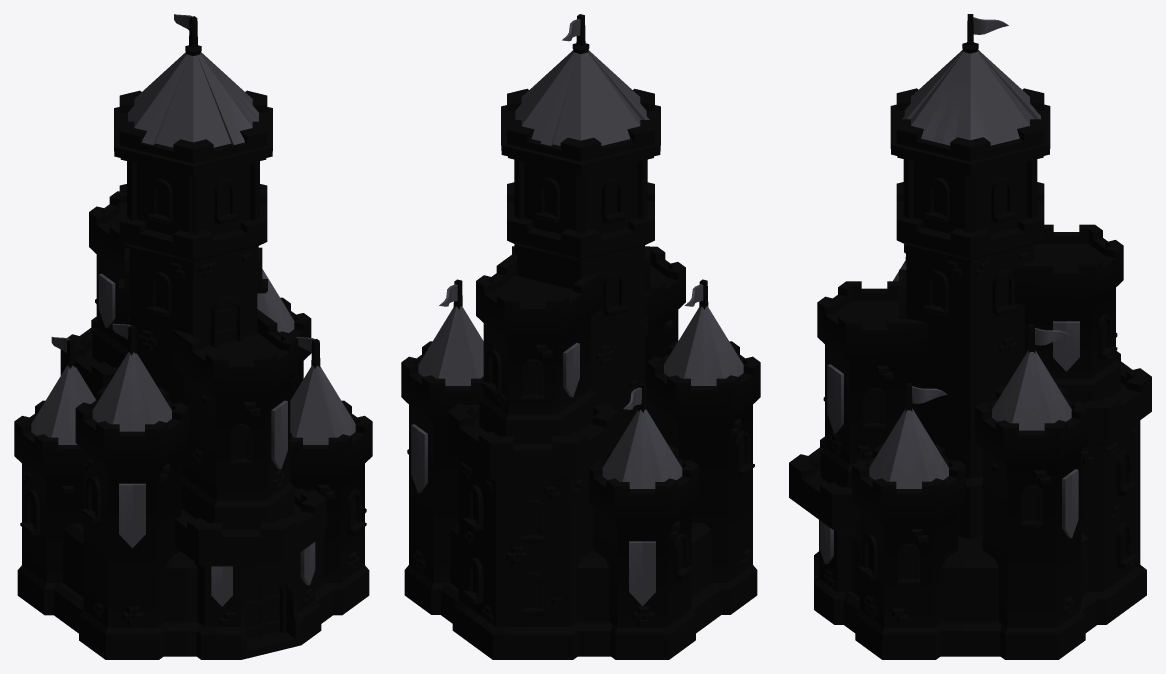
File: castle.glb
The picture shows the model from 3 angles, left to right: view 1: azimuth 30°, elevation 25°; view 2: azimuth 150°, elevation 25°; view 3: azimuth 270°, elevation 25°; orthographic projection.
Visible parts, largest first — view 1: building_castle_blue; view 2: building_castle_blue; view 3: building_castle_blue.
Boxes of the visible parts, <box> form: building_castle_blue: <box>14,14,372,659</box>; building_castle_blue: <box>401,14,760,659</box>; building_castle_blue: <box>789,14,1151,659</box>.
Size of the model in its own units: 1.98 by 3.98 by 2.26.
Materials: 1 (1 with a texture image).
